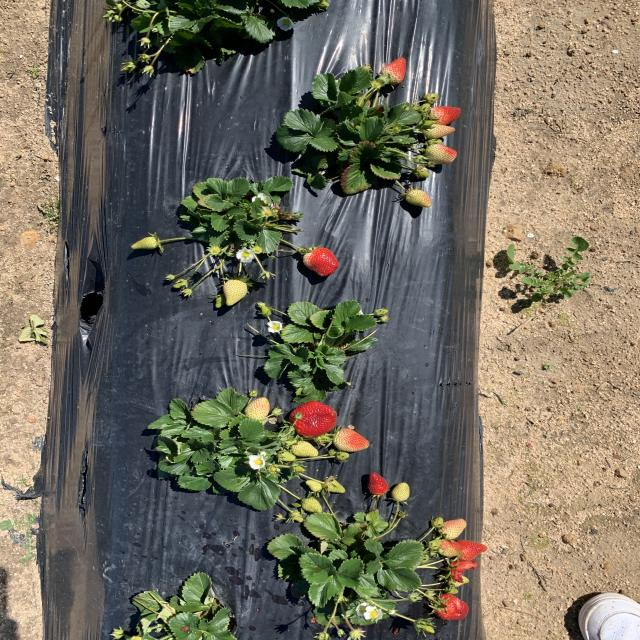unripe: (290, 400, 338, 438), (304, 248, 339, 277), (435, 596, 470, 622), (457, 539, 489, 560), (383, 57, 408, 82), (430, 107, 463, 124), (368, 471, 388, 495)
